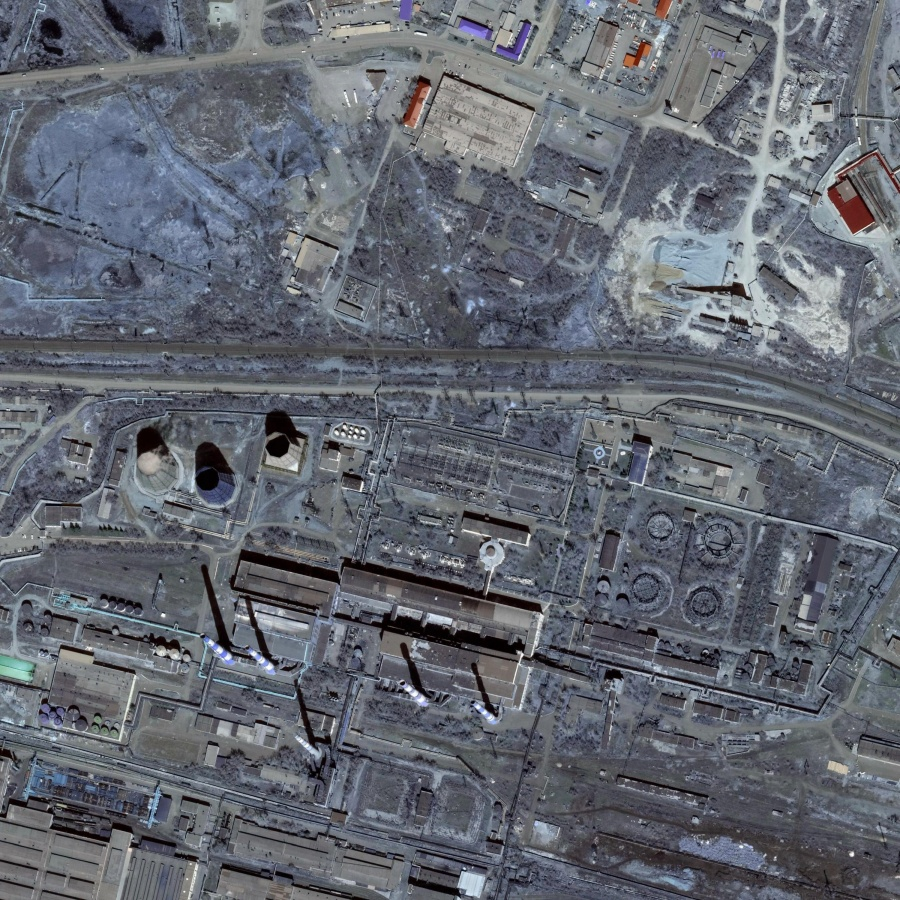PowerPlant: (123, 393, 537, 767)
